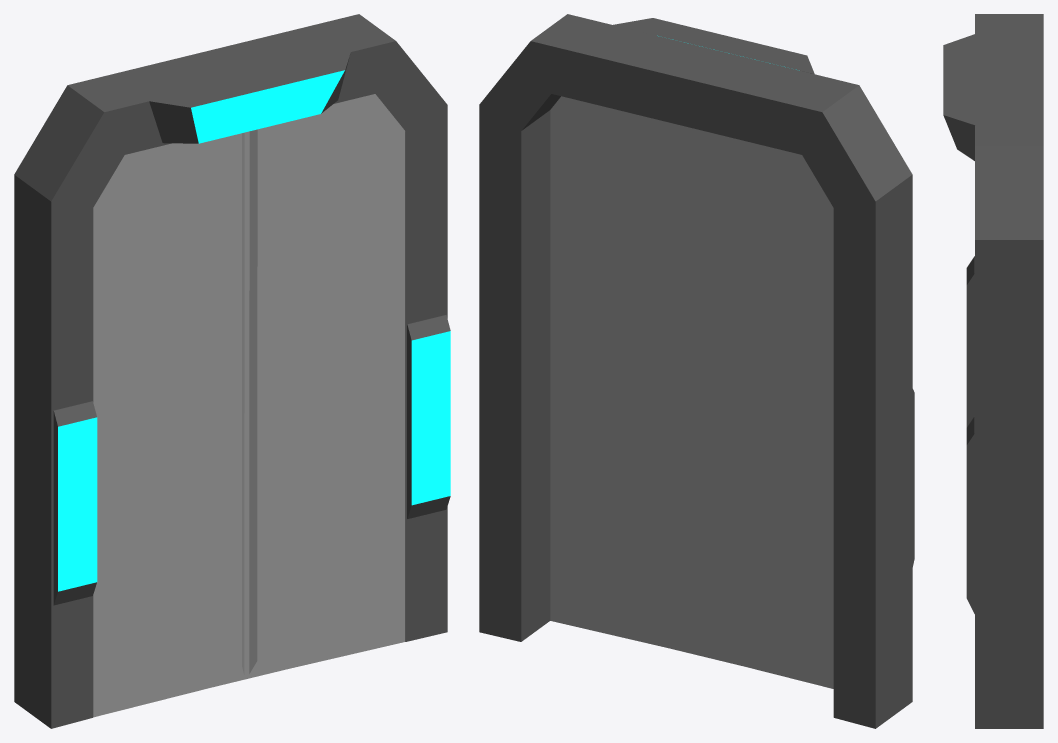
The model's file is door.fbx.
3 renders of one model, left to right at view 1: azimuth 30°, elevation 25°; view 2: azimuth 150°, elevation 25°; view 3: azimuth 270°, elevation 25°, orthographic. The views are drawn at different scales.
Parts seen in each view (by area): view 1: door2, door1; view 2: door2, door1; view 3: door1.
Part boxes in pixels (bbox=[...]): door2: bbox=[93, 94, 405, 717]; door1: bbox=[14, 14, 450, 728]; door2: bbox=[550, 96, 833, 688]; door1: bbox=[479, 14, 914, 728]; door1: bbox=[943, 14, 1043, 728].
Size of the model in its own units: 264 by 384 by 62.39.
